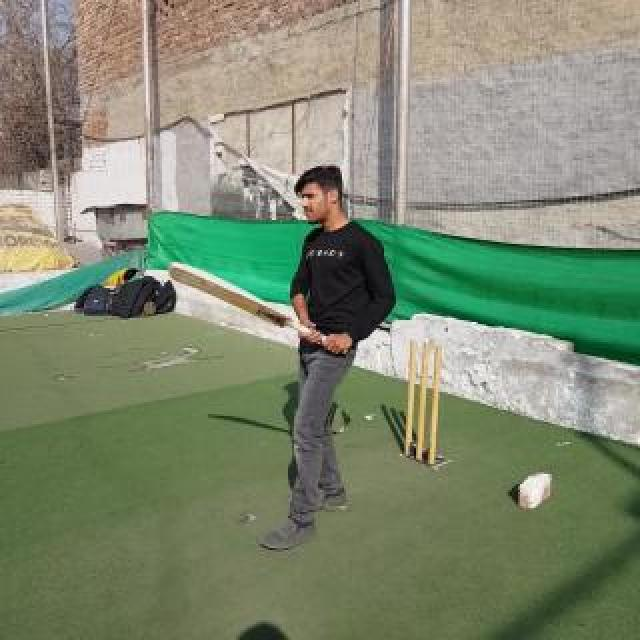bat: (168, 260, 348, 354)
